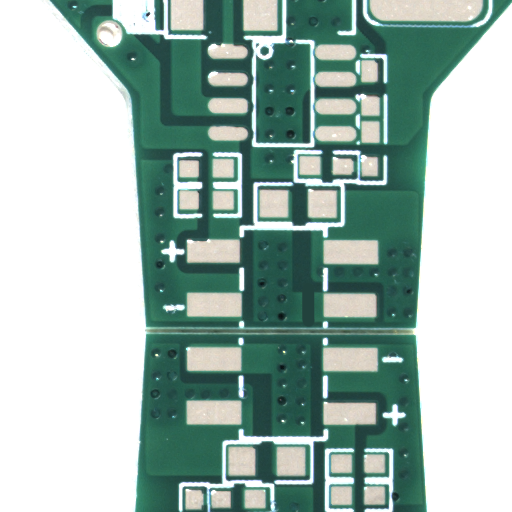Open_circuit: (308, 307, 323, 342)
